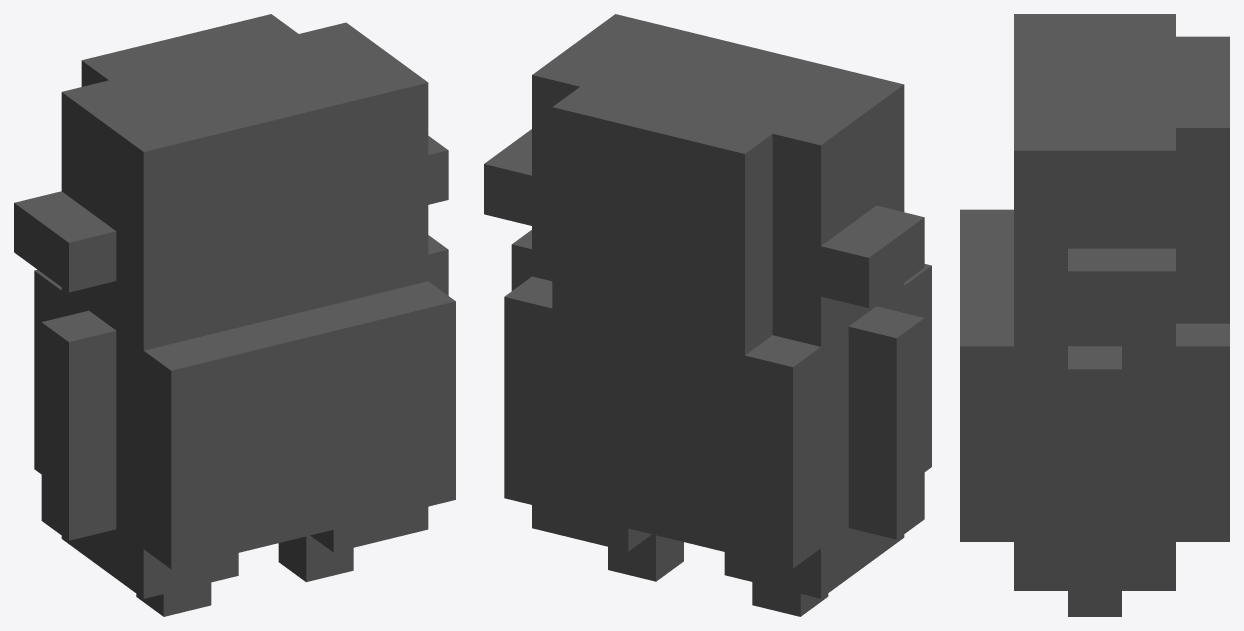
Rendered from chr_super5.obj.
The picture shows the model from 3 angles, left to right: view 1: azimuth 30°, elevation 25°; view 2: azimuth 150°, elevation 25°; view 3: azimuth 270°, elevation 25°; orthographic projection. The views are drawn at different scales.
Bounding box in the file's own units: 8 × 10 × 5.
